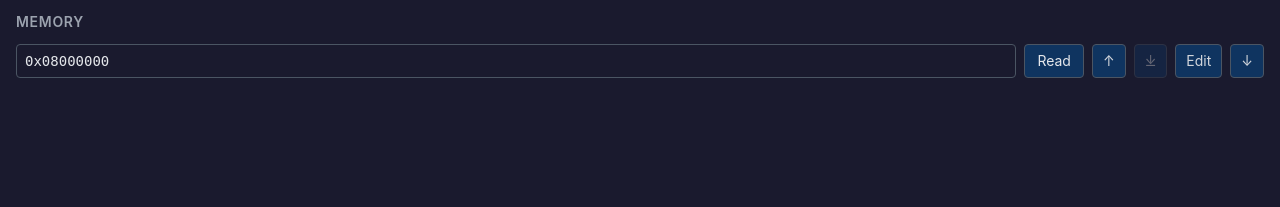
Test case: MemoryViewer › writing › refuses an incomplete byte rather than padding it
Click the button "Edit": (1199, 61) [1175,44,1222,78]
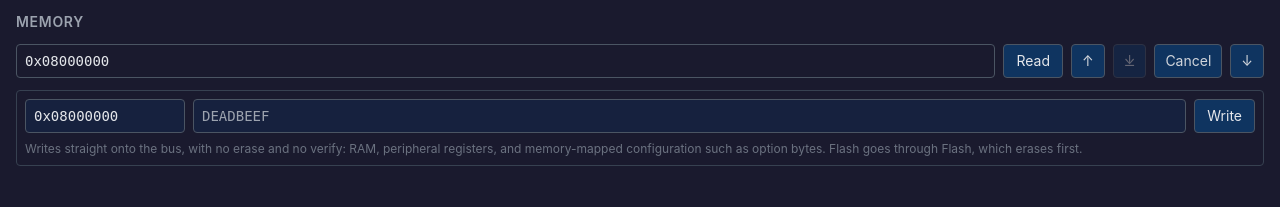
Replace the text in the field named "Write address" with "0x20000000": (105, 116) [25,99,185,133]
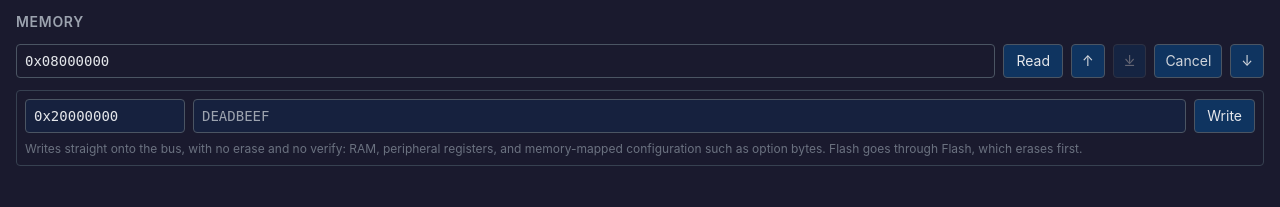
In the field named "Bytes to write": (690, 116) [193,99,1186,133], type "ABC"
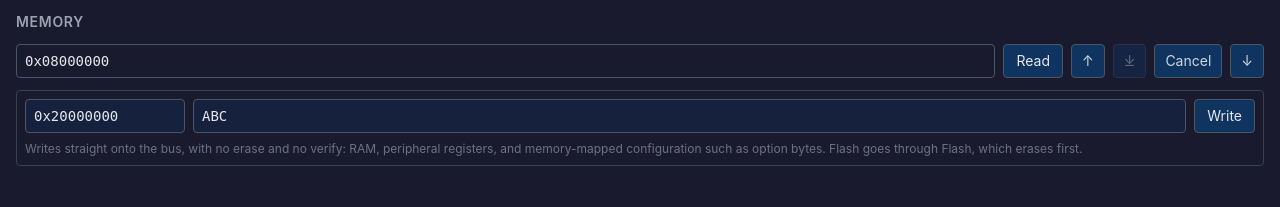
Click the button "Write": (1225, 116) [1194,99,1255,133]
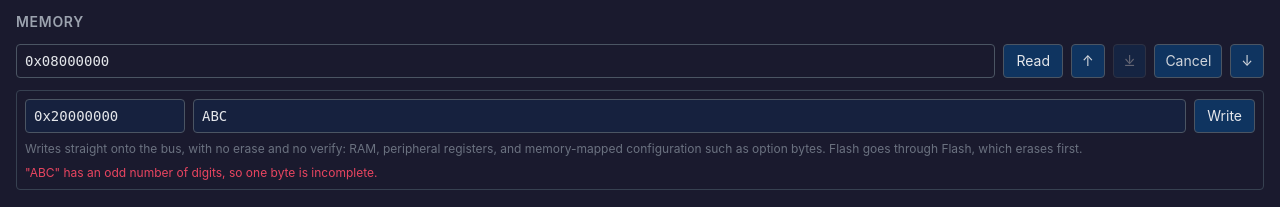
Result: the text "odd number of digits" is shown at [25,165,377,180]
